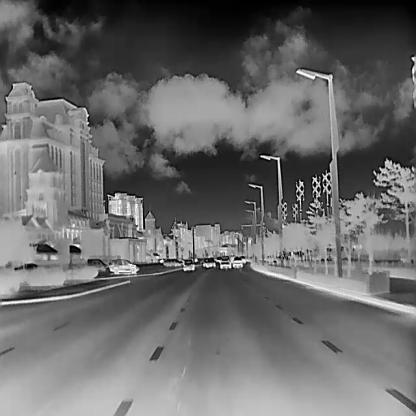car: (108, 257, 138, 273), (86, 257, 107, 271), (161, 257, 184, 265), (182, 258, 195, 271), (219, 254, 231, 268), (231, 255, 242, 268), (202, 256, 215, 266), (239, 255, 246, 263), (215, 255, 221, 262)
